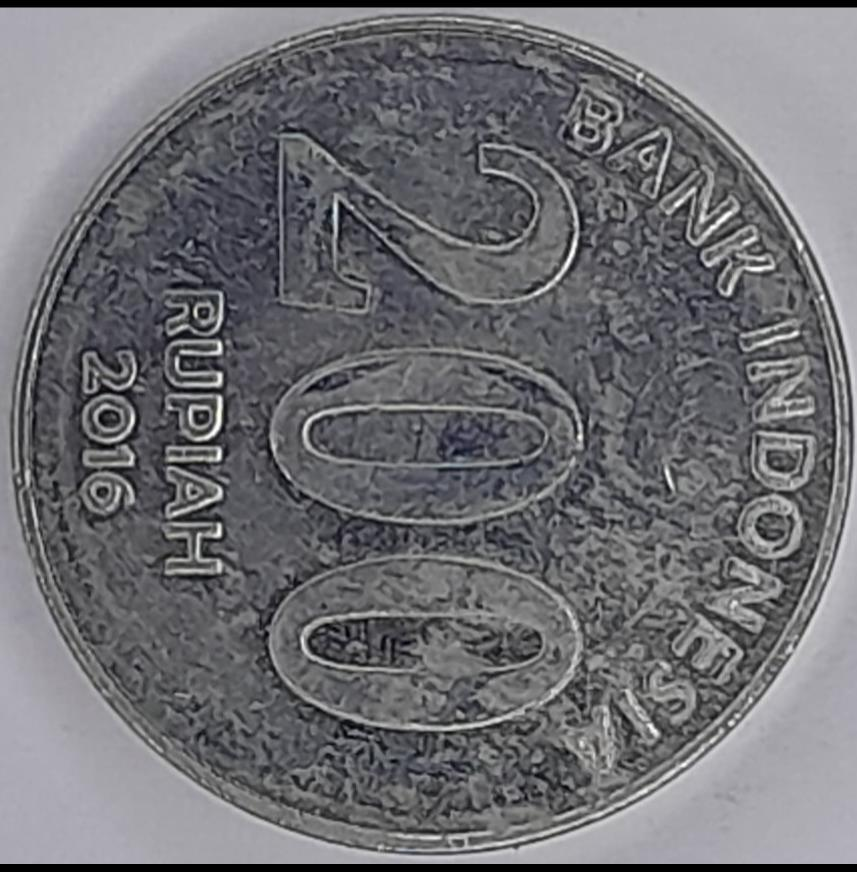coin_200_e2016: (0, 15, 857, 872)
